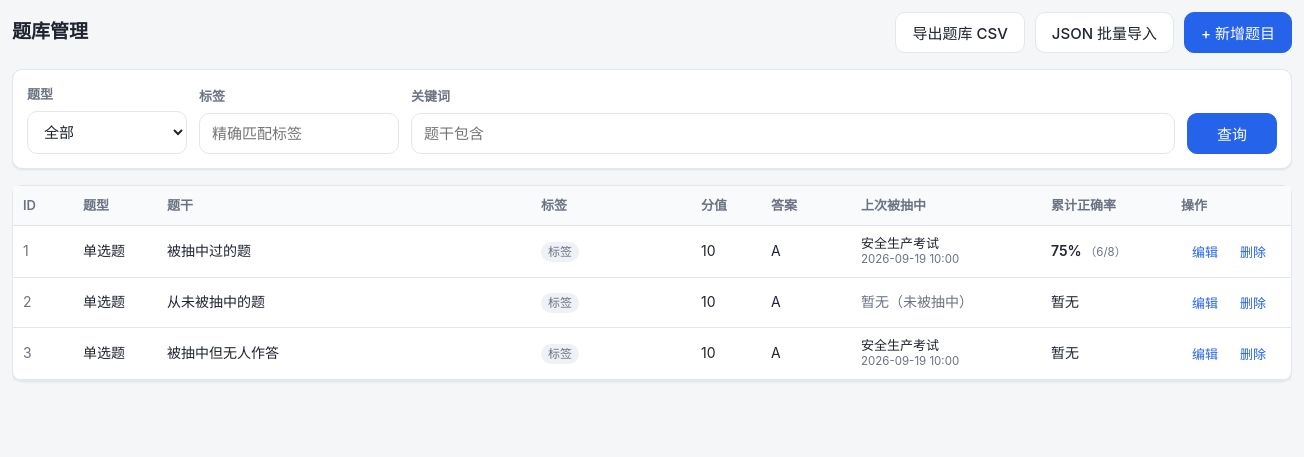
题库导出（CH-011） › 导出失败时展示后端原因，不静默吞掉
Click the button "导出题库 CSV" at (960, 32), box [896,12,1025,53]
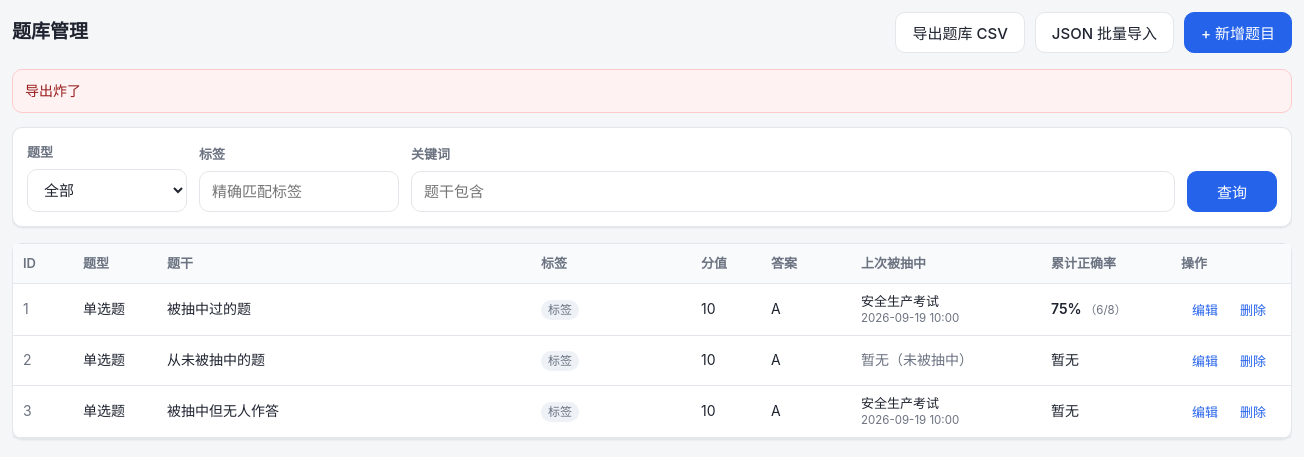
Expected: the text "导出炸了" is shown, [12,69,1292,113]
